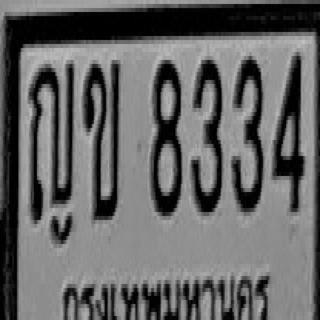A02: (83, 60, 120, 220)
A13: (29, 60, 74, 220)
N03: (190, 54, 222, 214), (231, 56, 263, 212)
N04: (273, 52, 304, 212)
N08: (151, 56, 182, 216)
P04: (62, 266, 272, 320)
